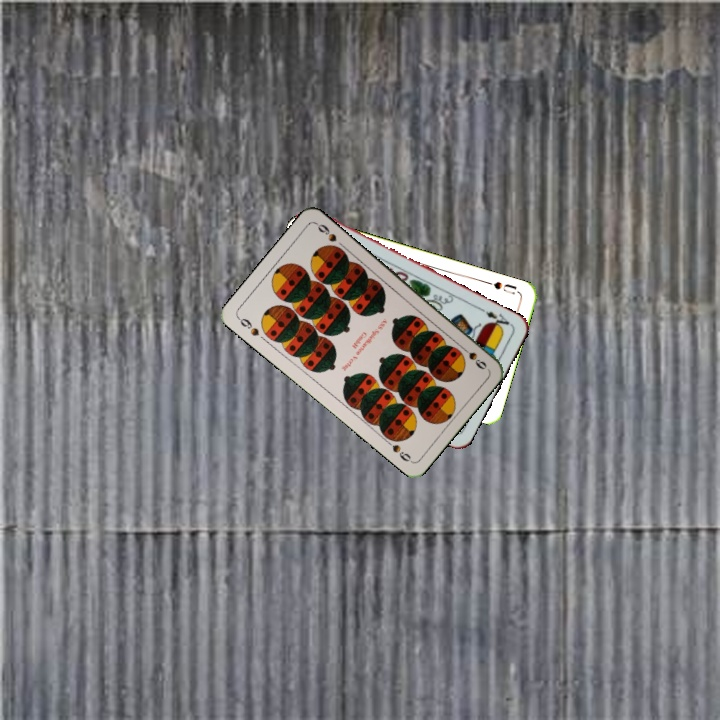EA: (476, 304, 514, 332)
S9: (456, 341, 489, 372), (234, 313, 262, 339)
SU: (482, 277, 519, 297)
